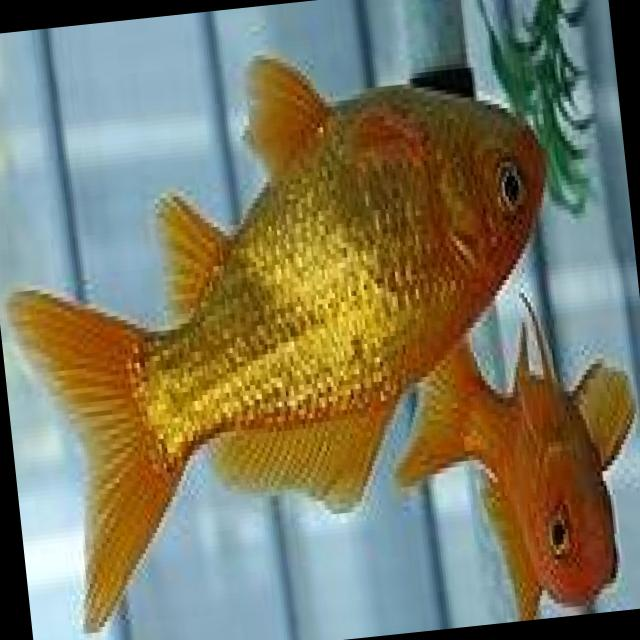GoldFish: (0, 18, 576, 560), (377, 281, 640, 632)
